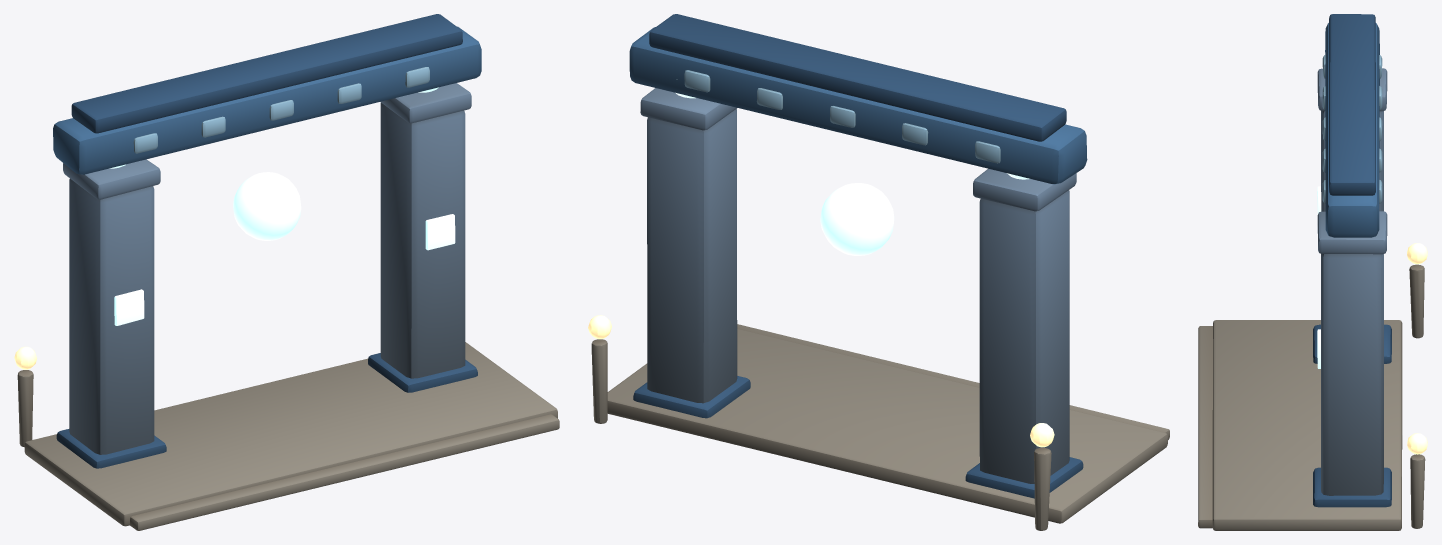
The picture shows the model from 3 angles, left to right: view 1: azimuth 30°, elevation 25°; view 2: azimuth 150°, elevation 25°; view 3: azimuth 270°, elevation 25°; orthographic projection. The views are drawn at different scales.
Visible parts, largest first — view 1: gate_84f1692e; view 2: gate_84f1692e; view 3: gate_84f1692e.
Boxes of the visible parts, x1,y1,x2,y2 form: gate_84f1692e: [14, 14, 559, 530]; gate_84f1692e: [588, 14, 1169, 530]; gate_84f1692e: [1198, 14, 1427, 530].
Size of the model in its own units: 5.25 by 4.1 by 2.55.
